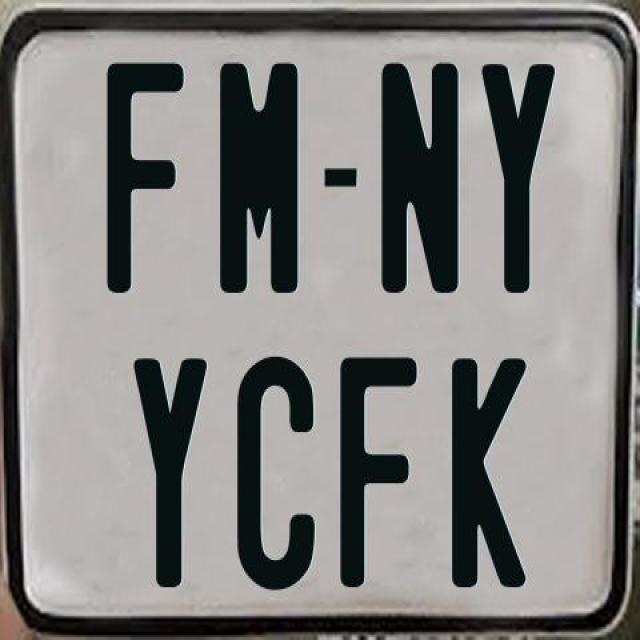C: (233, 352, 312, 592)
F: (104, 59, 185, 294), (341, 355, 418, 592)
K: (448, 354, 523, 588)
M: (217, 61, 299, 292)
N: (380, 58, 458, 292)
Y: (481, 62, 558, 301), (133, 355, 208, 592)
